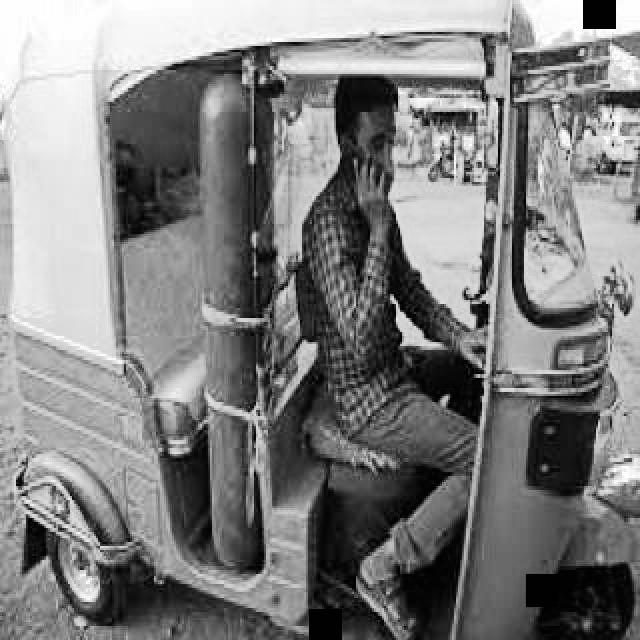Auto-Rickshaw: (14, 20, 618, 640)
